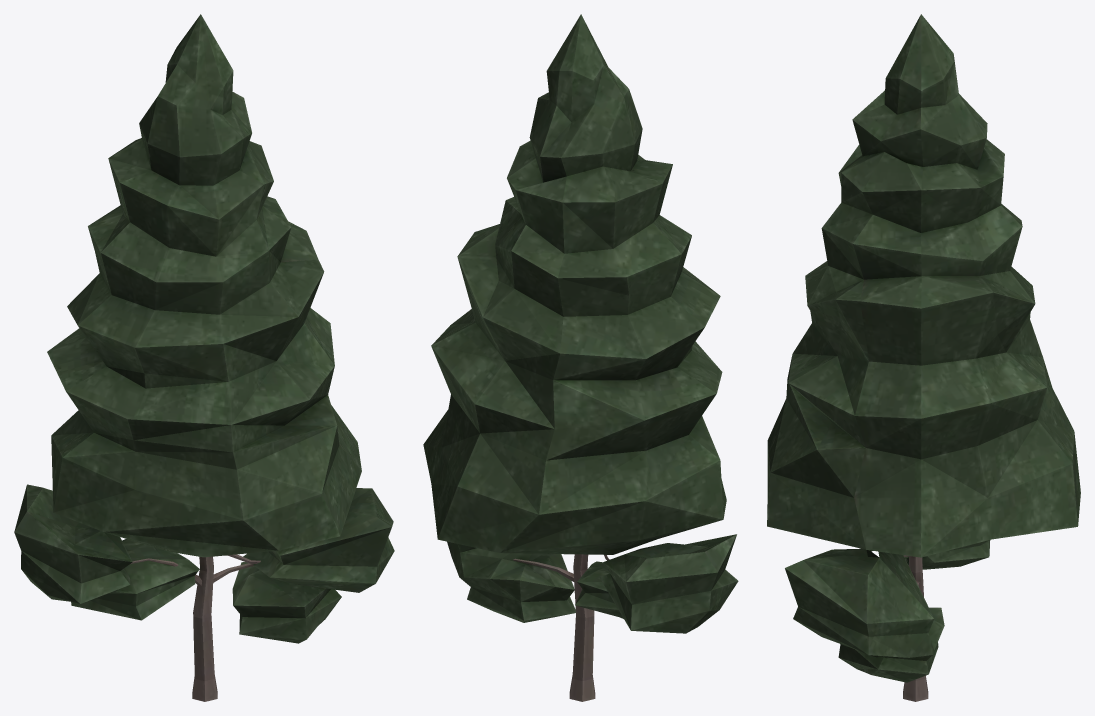
The model's file is ahT2_ZxtLIq.glb.
3 views of the same model, side by side, from view 1: azimuth 30°, elevation 25°; view 2: azimuth 150°, elevation 25°; view 3: azimuth 270°, elevation 25° (orthographic).
Visible parts, largest first — view 1: SpruceTree_mesh; view 2: SpruceTree_mesh; view 3: SpruceTree_mesh.
Part boxes in pixels (x1,y1,x2,y2): SpruceTree_mesh: (14, 14, 394, 701); SpruceTree_mesh: (423, 14, 738, 701); SpruceTree_mesh: (767, 14, 1080, 701).
Size of the model in its own units: 0.5061 by 1 by 0.4178.
Materials: 1 (1 with a texture image).
